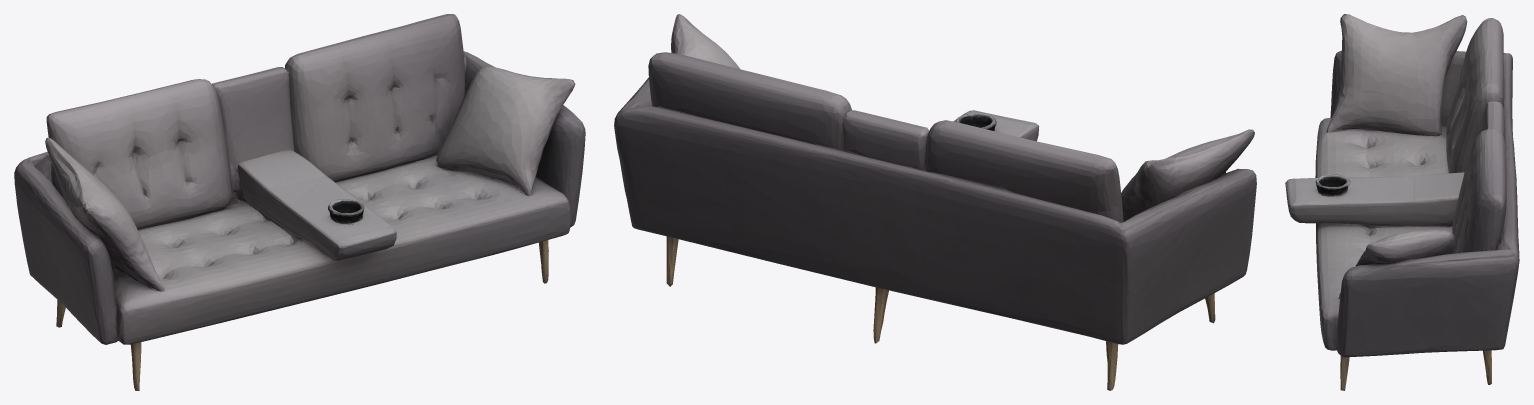
The model's file is f903a_sofa_bed_light_grey_valvet.glb.
3 views of the same model, side by side, from view 1: azimuth 30°, elevation 25°; view 2: azimuth 150°, elevation 25°; view 3: azimuth 270°, elevation 25° (orthographic). The views are drawn at different scales.
Parts seen in each view (by area): view 1: world; view 2: world; view 3: world.
Boxes of the visible parts, x1,y1,x2,y2 form: world: [14, 14, 585, 390]; world: [614, 14, 1256, 390]; world: [1285, 14, 1519, 390].
Bounding box in the file's own units: 0.9997 × 0.4011 × 0.4415.
1 material, 1 textured.
